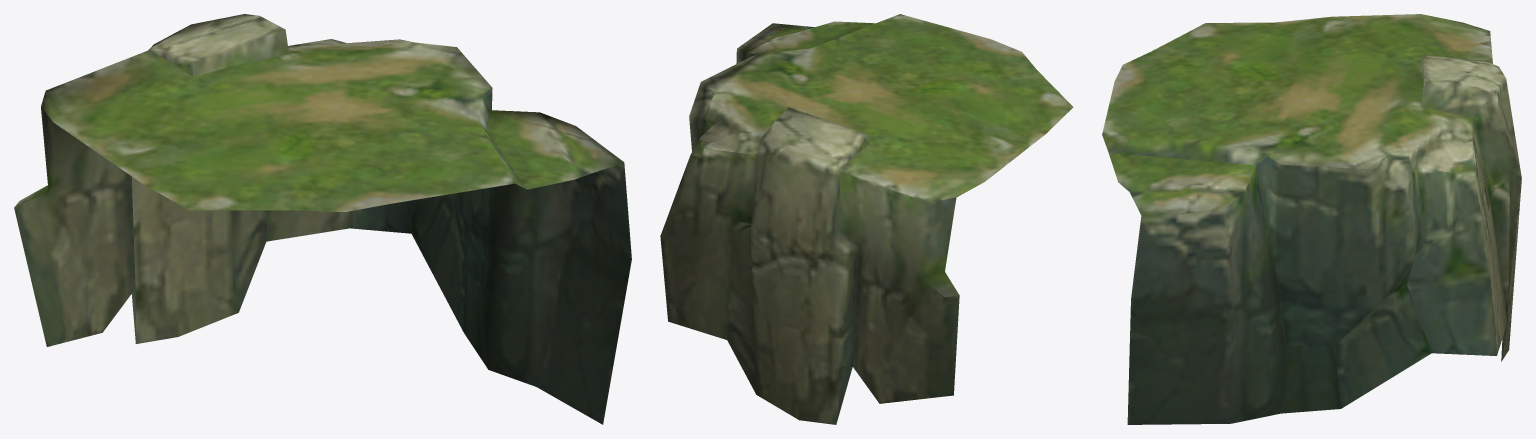
File: S_Rock_Green054_1060_13.fbx
3 renders of one model, left to right at view 1: azimuth 30°, elevation 25°; view 2: azimuth 150°, elevation 25°; view 3: azimuth 270°, elevation 25°, orthographic. The views are drawn at different scales.
Parts seen in each view (by area): view 1: S_Rock_Green054; view 2: S_Rock_Green054; view 3: S_Rock_Green054.
Boxes of the visible parts, x1=… form: S_Rock_Green054: x1=14, y1=14, x2=631, y2=424; S_Rock_Green054: x1=660, y1=14, x2=1073, y2=424; S_Rock_Green054: x1=1102, y1=14, x2=1521, y2=424.
Bounding box in the file's own units: 1599 × 1194 × 1561.
1 material, 1 textured.
